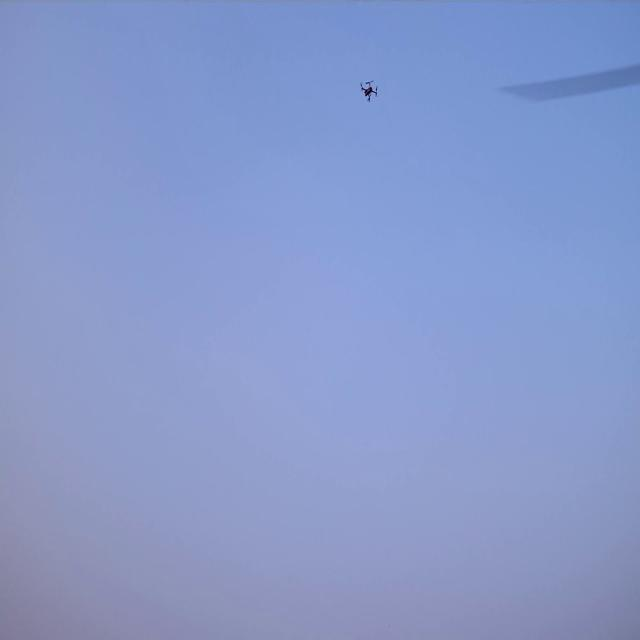UAV: (361, 82, 377, 102)
